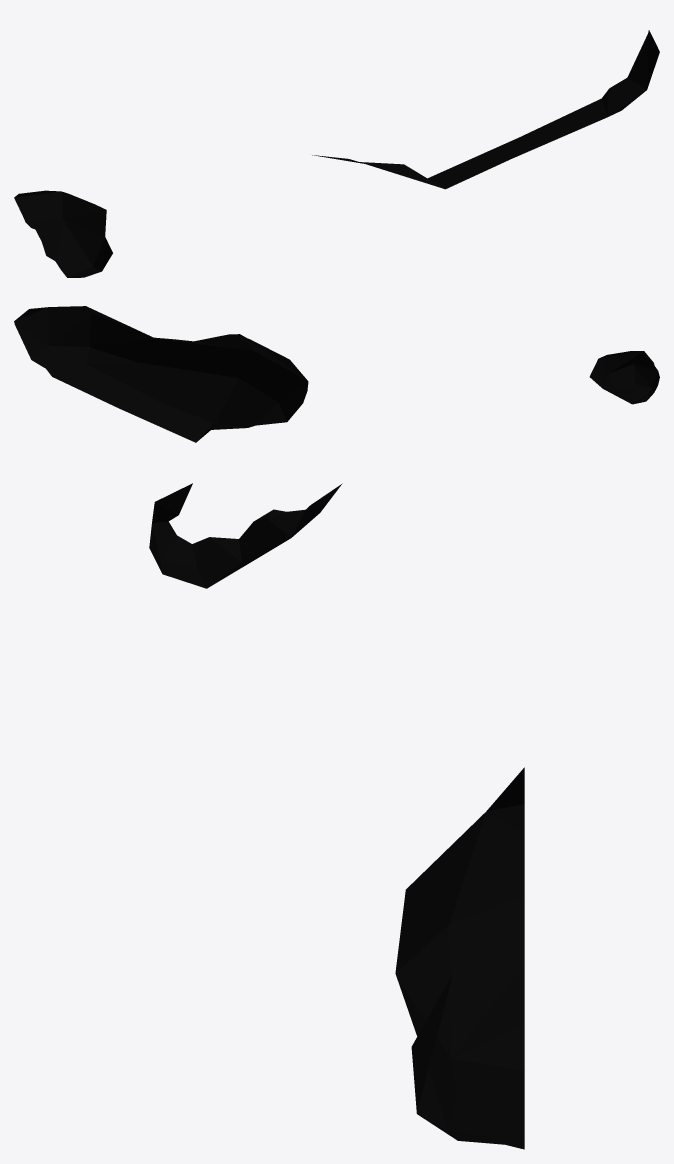
3 renders of one model, top to bottom at view 1: azimuth 30°, elevation 25°; view 2: azimuth 150°, elevation 25°; view 3: azimuth 270°, elevation 25°, orthographic. The views are drawn at different scales.
Size of the model in its own units: 1.5 by 0.2997 by 0.4364.
Materials: 1 (1 with a texture image).
